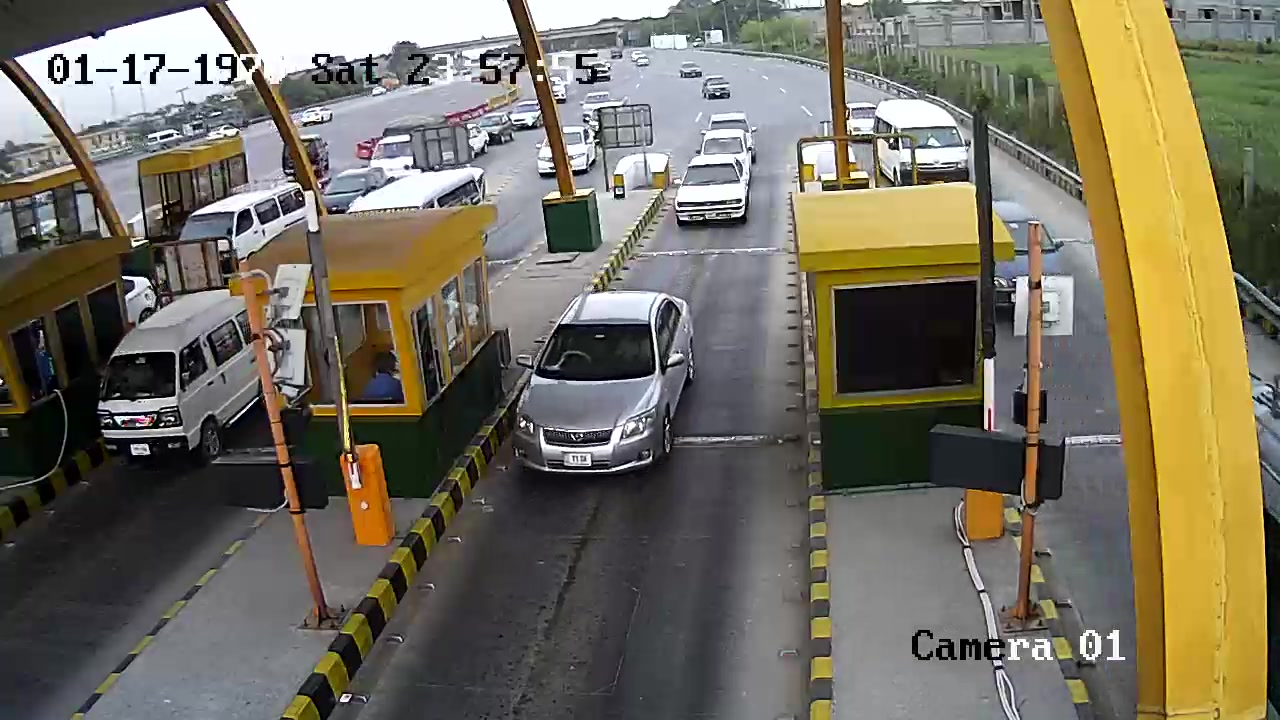F1: (510, 292, 700, 506)
